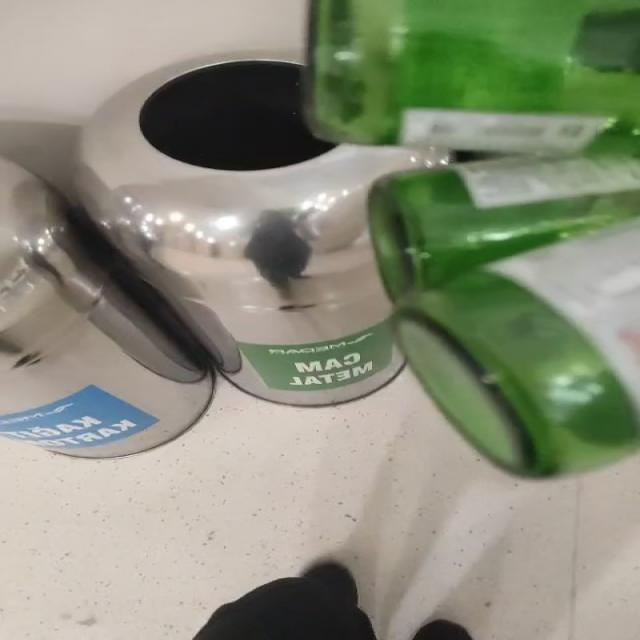glass: (308, 0, 640, 478)
